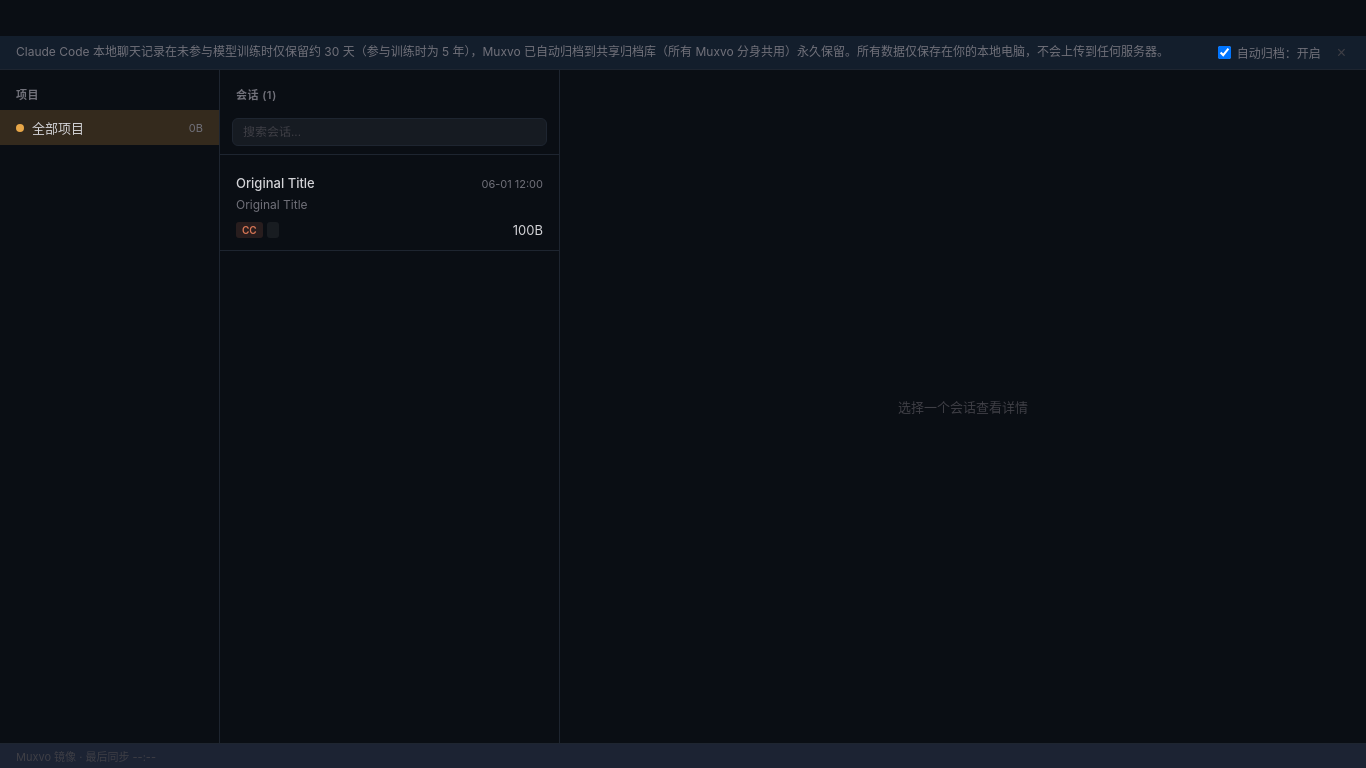
Test case: W8 删除 › 取消删除 → 不发 delete，卡片保留
This screenshot has width=1366, height=768.
Right-click the element with class "session-card" at (390,207), box [220,163,559,251]
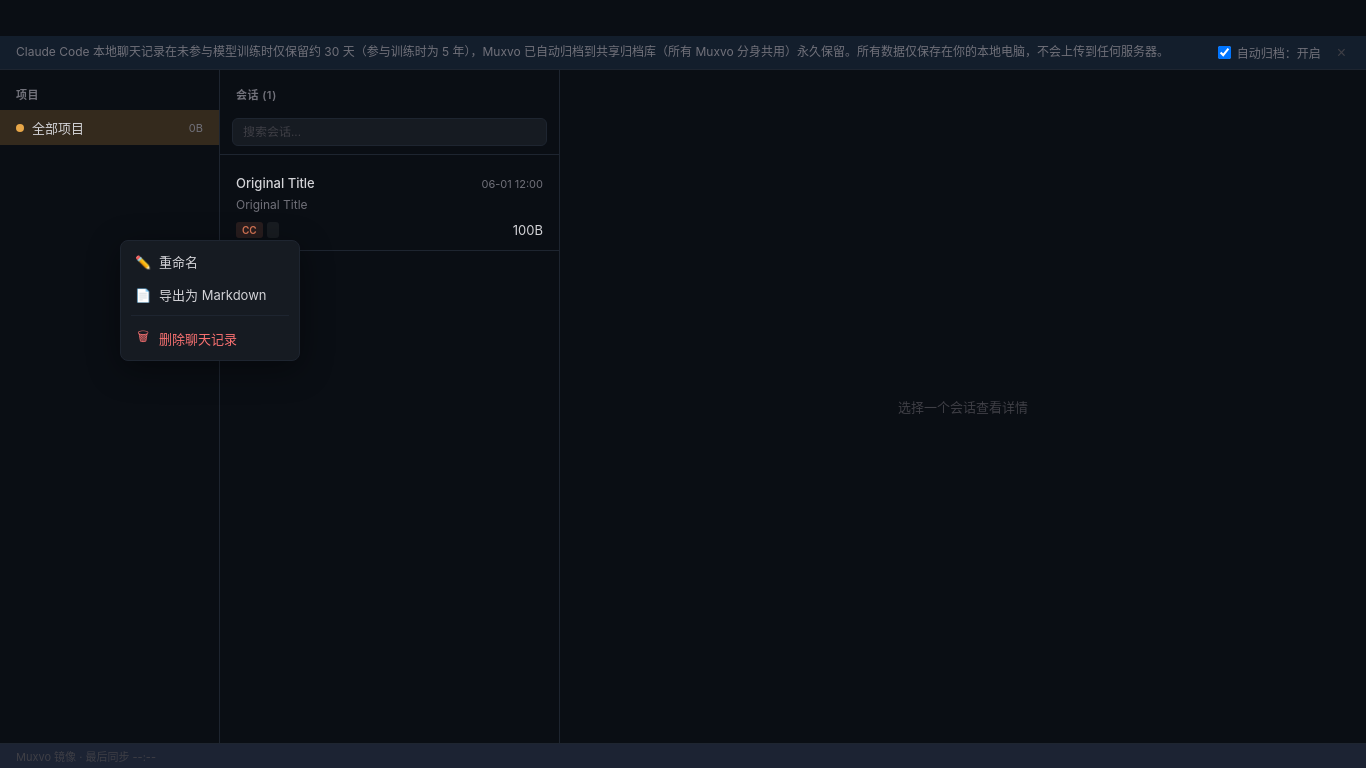
Click the menu item with class "session-context-menu__item" showing "🗑 删除聊天记录" at (210,338), box [125,320,295,356]
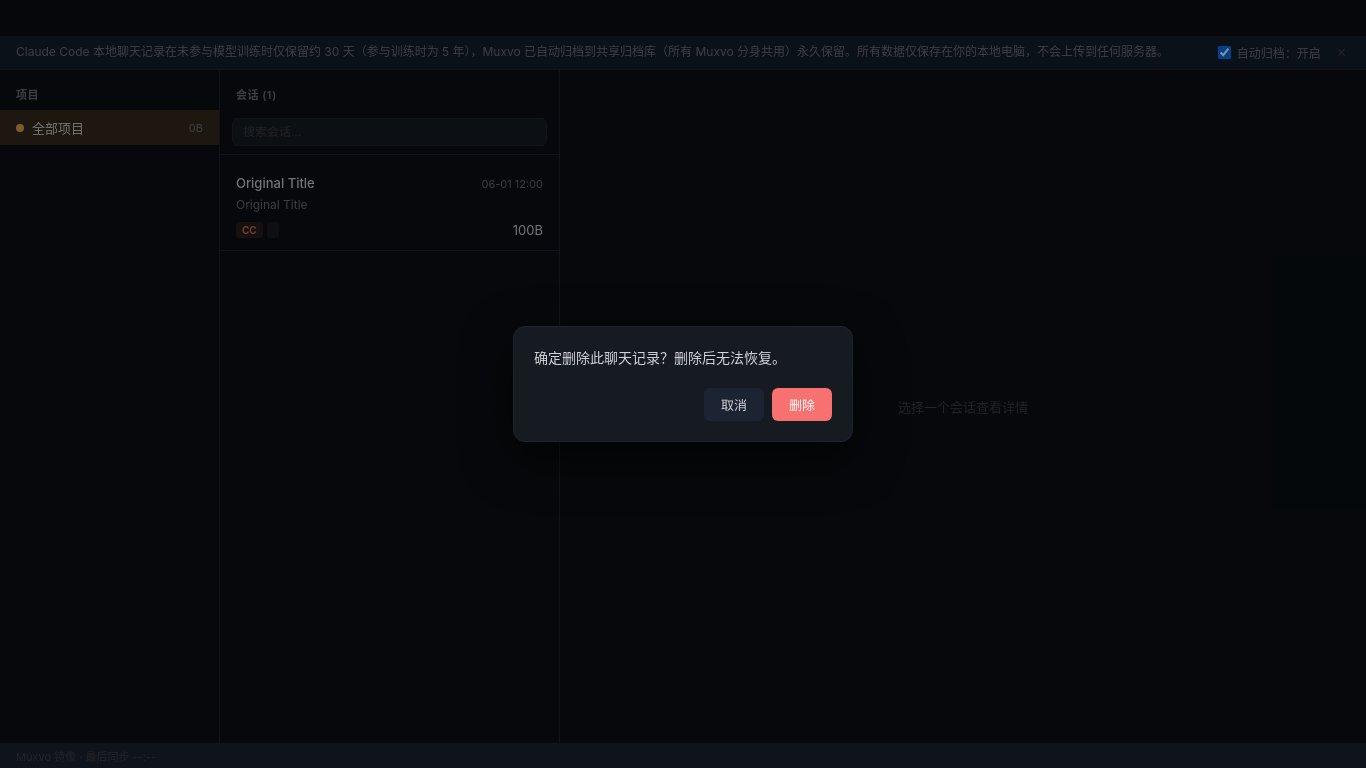
Click the button with class "chat-confirm-modal__btn" showing "取消" at (734,404), box [704,388,764,421]
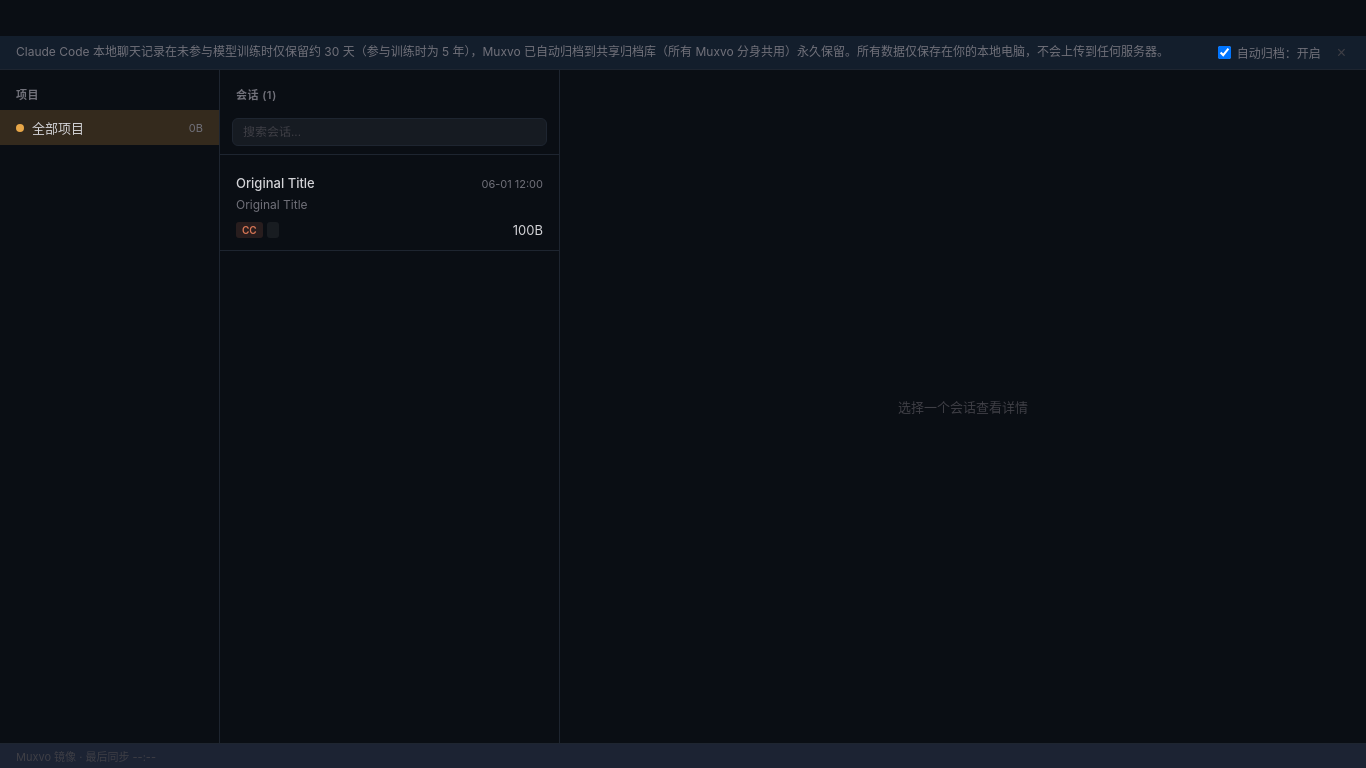
Expected: the element with class "session-card" is shown, [220,163,559,251]
Expected: the dialog with class "chat-confirm-modal__dialog" is gone
